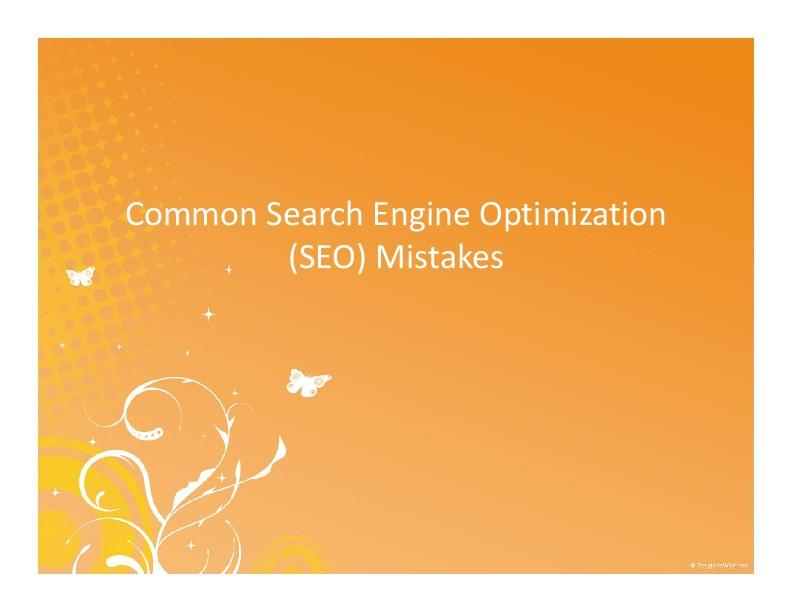title: (114, 185, 687, 298)
